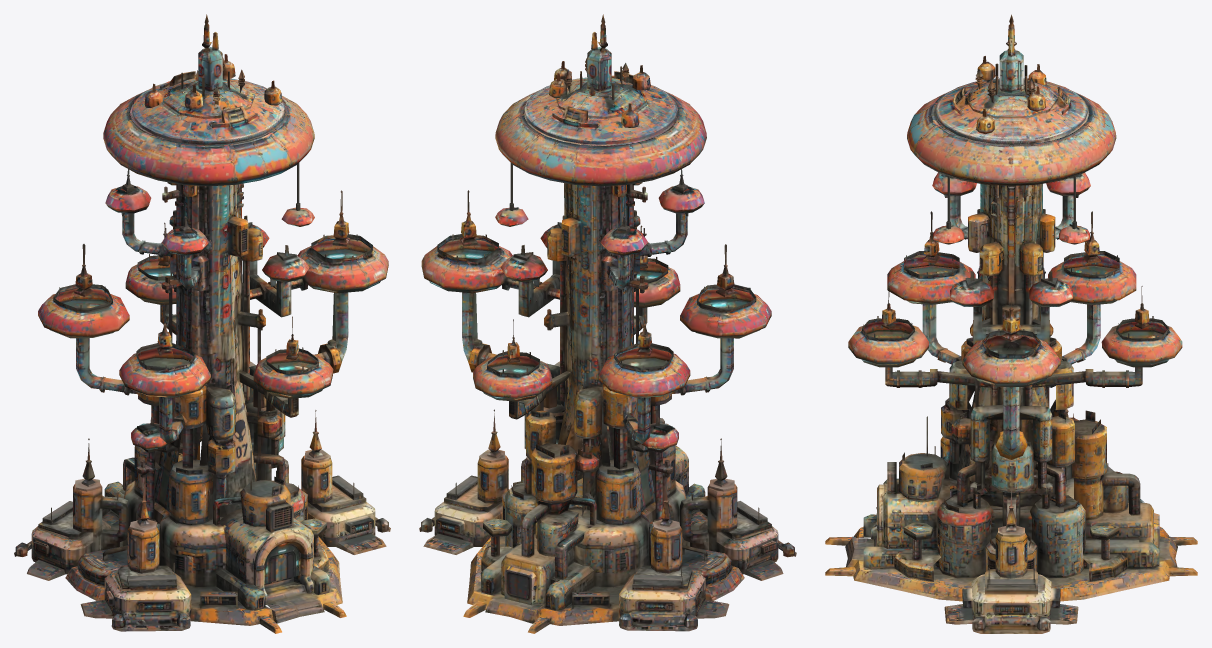
The model's file is alien_tower_01.glb.
The picture shows the model from 3 angles, left to right: view 1: azimuth 30°, elevation 25°; view 2: azimuth 150°, elevation 25°; view 3: azimuth 270°, elevation 25°; orthographic projection.
Visible parts, largest first — view 1: alien_tower_01; view 2: alien_tower_01; view 3: alien_tower_01.
Boxes of the visible parts, x1,y1,x2,y2 form: alien_tower_01: (14,14,390,633); alien_tower_01: (419,14,796,633); alien_tower_01: (825,14,1197,633).
Bounding box in the file's own units: 0.6089 × 0.9741 × 0.6099.
Materials: 1 (1 with a texture image).
